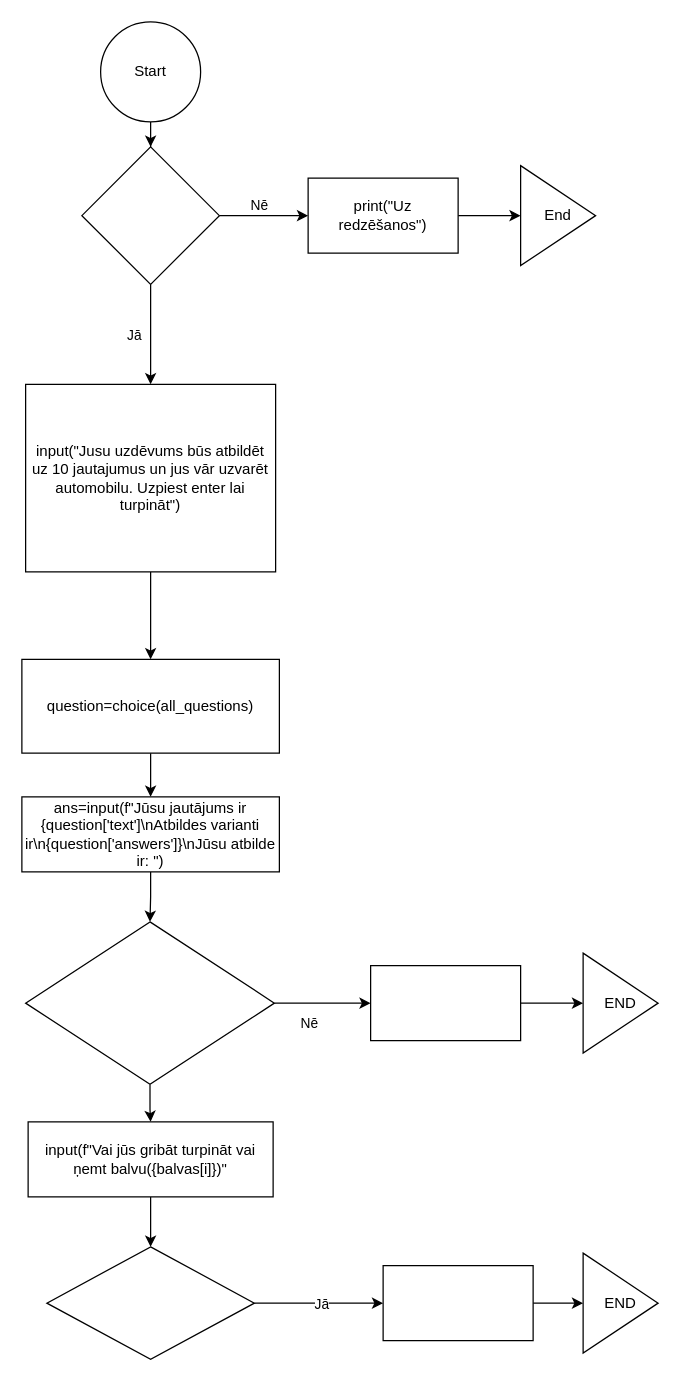
Some shapes in this 680 by 1381 pixel diagram are drawn without their labels. Each missing label, with the centre of its shape:
ans==question["right_answer"] Atbilde ir pareiza: pixel 149 1002
input Vai jus vēleties spēlet ?: pixel 150 215
print("Jūs zaudējāt"): pixel 445 1002
print(f"Jūsu balva ir {balvas[i]}. Uz redzēšanos."): pixel 457 1302
Ņemsiet balvu: pixel 150 1302
